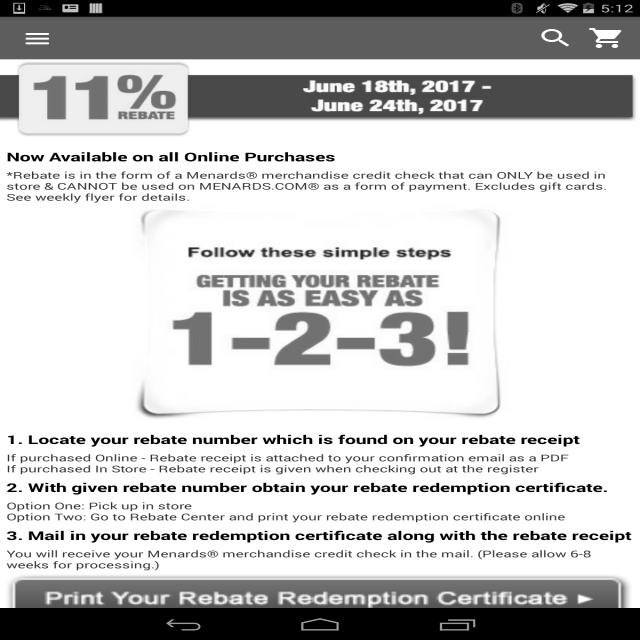ImageButton: (9, 17, 68, 59)
ImageView: (0, 205, 640, 429), (0, 60, 640, 146), (0, 573, 640, 628), (524, 22, 588, 54), (588, 26, 631, 50)
TextView: (0, 167, 640, 205), (0, 449, 640, 477), (0, 497, 640, 525), (0, 545, 640, 573), (0, 146, 640, 167), (0, 429, 640, 449), (0, 477, 640, 497), (0, 525, 640, 545)
